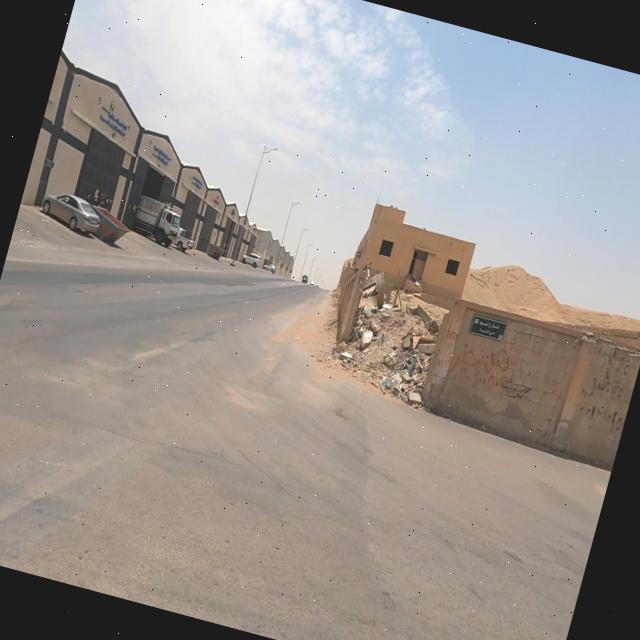Graffiti: (503, 329, 577, 416), (573, 353, 639, 442), (448, 339, 513, 400), (444, 327, 461, 345)
